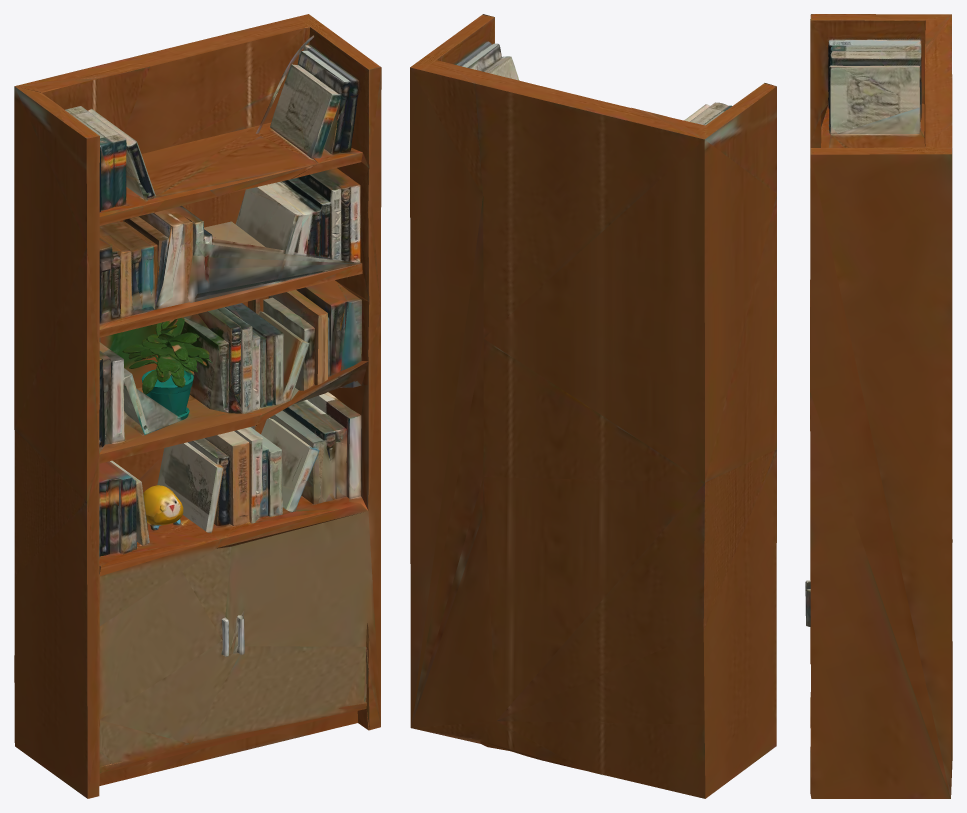
The model's file is bookshelf.glb.
3 renders of one model, left to right at view 1: azimuth 30°, elevation 25°; view 2: azimuth 150°, elevation 25°; view 3: azimuth 270°, elevation 25°, orthographic. The views are drawn at different scales.
Bounding box in the file's own units: 0.8876 × 1.9 × 0.3929.
1 material, 1 textured.
